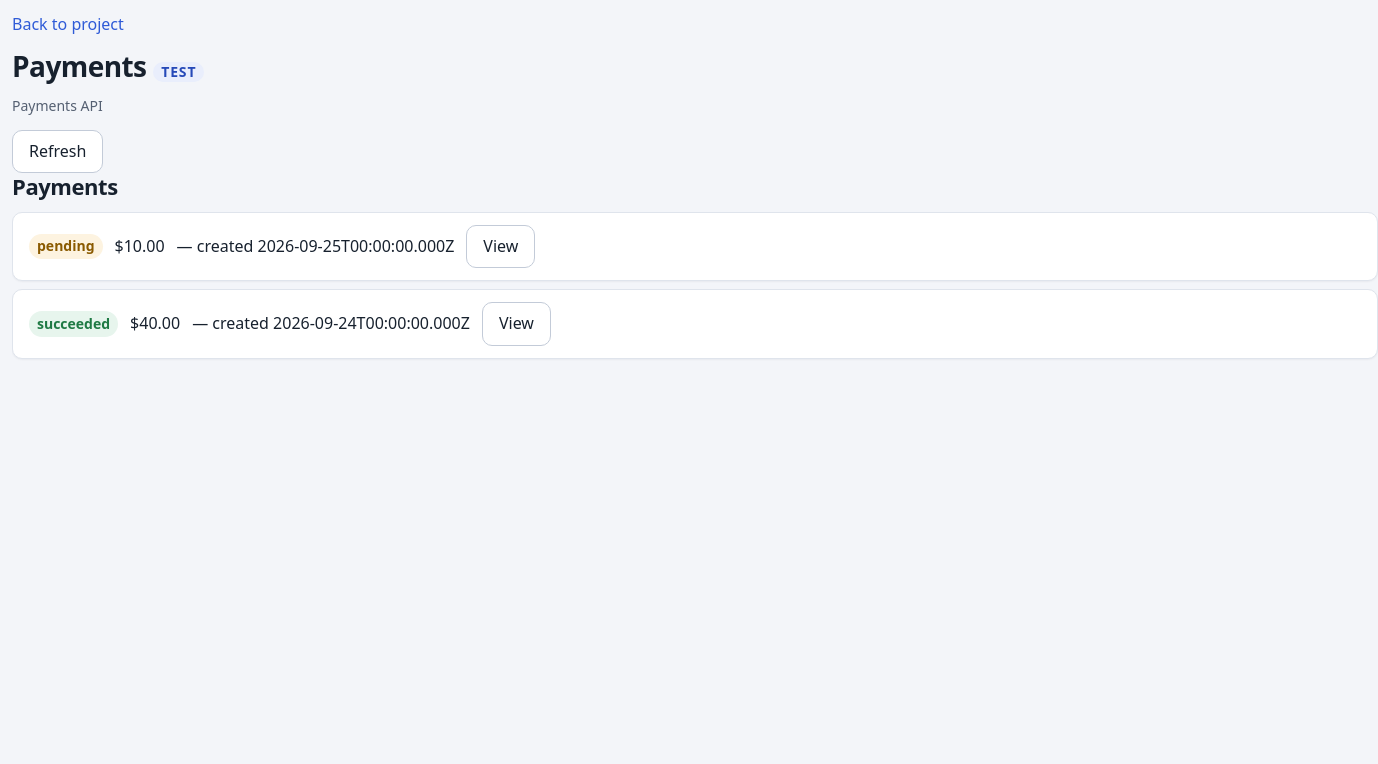
it: payments page (phase 7 §5.2, D1/D2/D3/D5) › member role sees the list and detail but no create controls (capability-based UI, D5)
This screenshot has width=1378, height=764.
expect the heading "Payments TEST" is shown: met, box [12,47,204,85]
expect the text "$10.00" is shown: met, box [114,234,165,259]
Read-only detail stays available (the API enforces anyway).
Click the button "View" in the row of "pending". click: (501, 246)
box: [466,225,535,268]
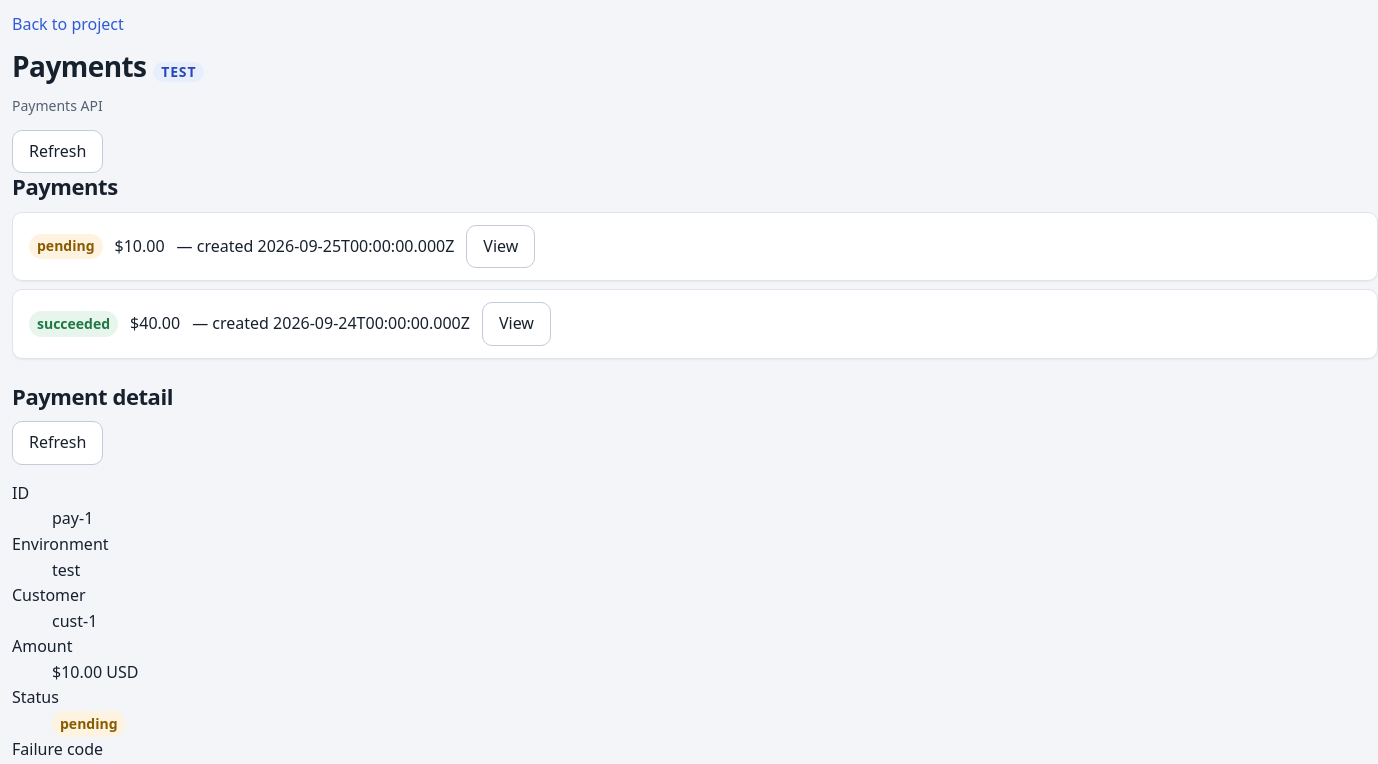
expect the heading "Payment detail" is shown: met, box [12,381,173,411]
expect the text "$10.00 USD" is shown: met, box [52,661,138,683]
